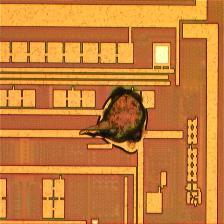PARTICLE: (79, 87, 149, 154)
